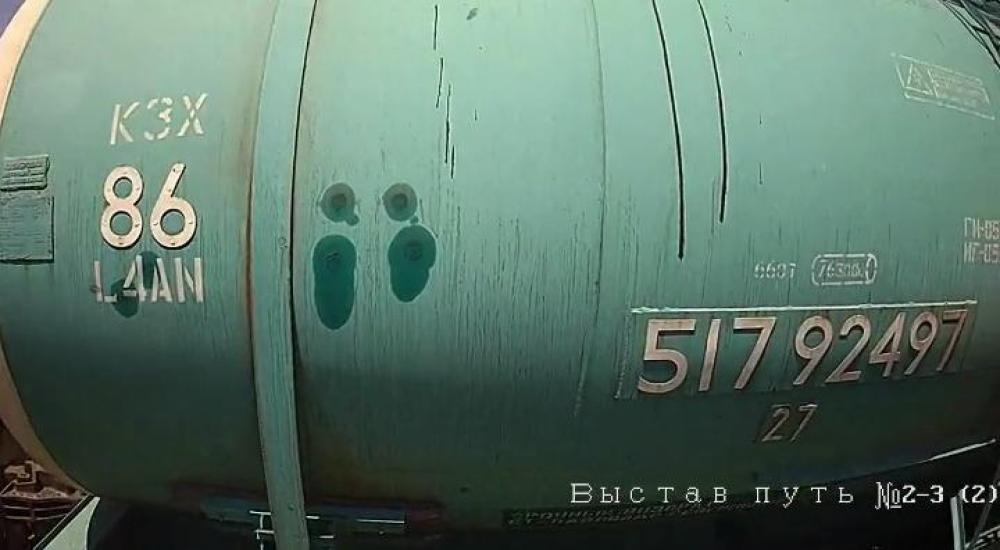Wagon-number: (634, 305, 975, 400)
